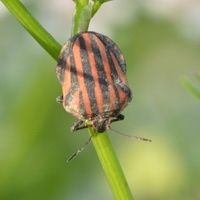insect: (56, 31, 131, 131)
